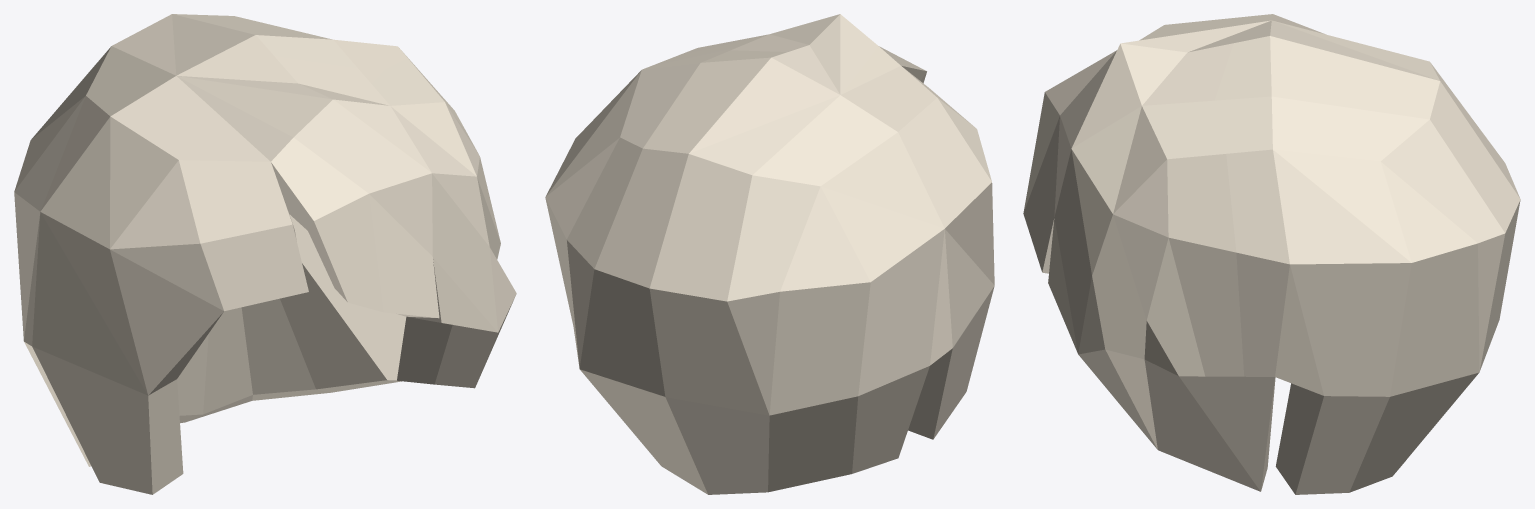
The model's file is Female Hairstyle B.fbx.
3 views of the same model, side by side, from view 1: azimuth 30°, elevation 25°; view 2: azimuth 150°, elevation 25°; view 3: azimuth 270°, elevation 25° (orthographic). The views are drawn at different scales.
Parts seen in each view (by area): view 1: Femal Singer.001; view 2: Femal Singer.001; view 3: Femal Singer.001.
Boxes of the visible parts, box(x1,y1,x2,y2) form: Femal Singer.001: box(14, 14, 516, 494); Femal Singer.001: box(545, 14, 994, 494); Femal Singer.001: box(1023, 14, 1520, 494).
Bounding box in the file's own units: 23.88 × 23.69 × 25.16.
